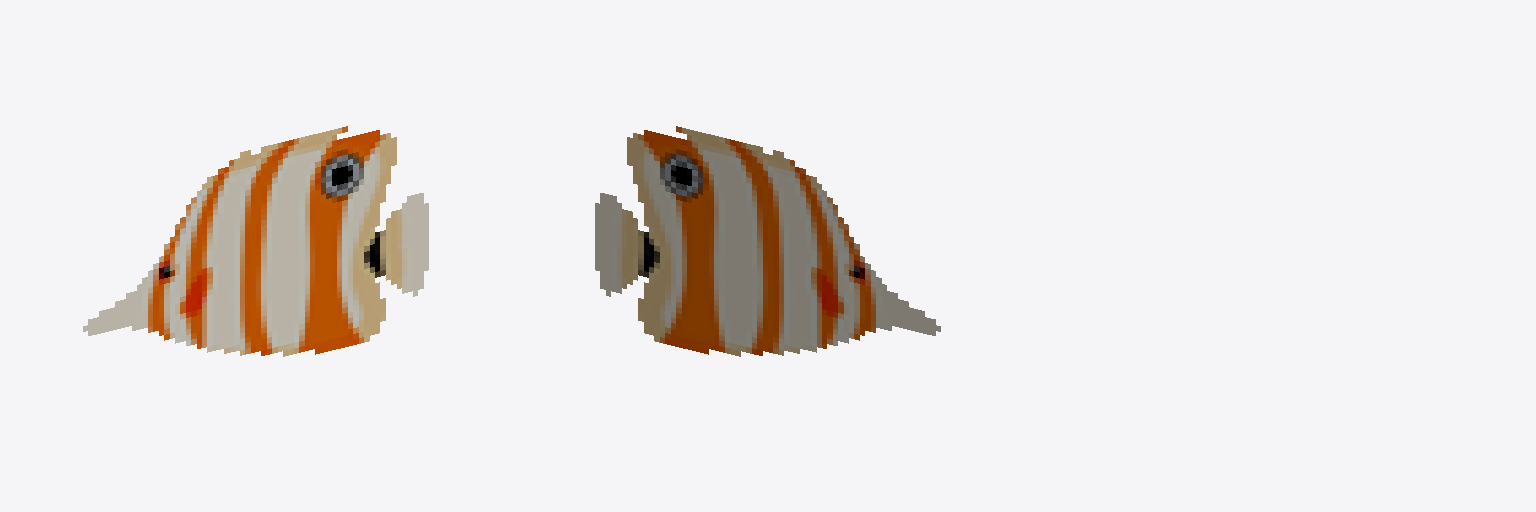
3 renders of one model, left to right at view 1: azimuth 30°, elevation 25°; view 2: azimuth 150°, elevation 25°; view 3: azimuth 270°, elevation 25°, orthographic.
Parts seen in each view (by area): view 1: 平面; view 2: 平面; view 3: none.
Part boxes in pixels (x1,y1,x2,y2): 平面: (83,126,428,356); 平面: (595,126,940,356).
Size of the model in its own units: 3.2 by 2 by 0.
1 materials, 1 textured.